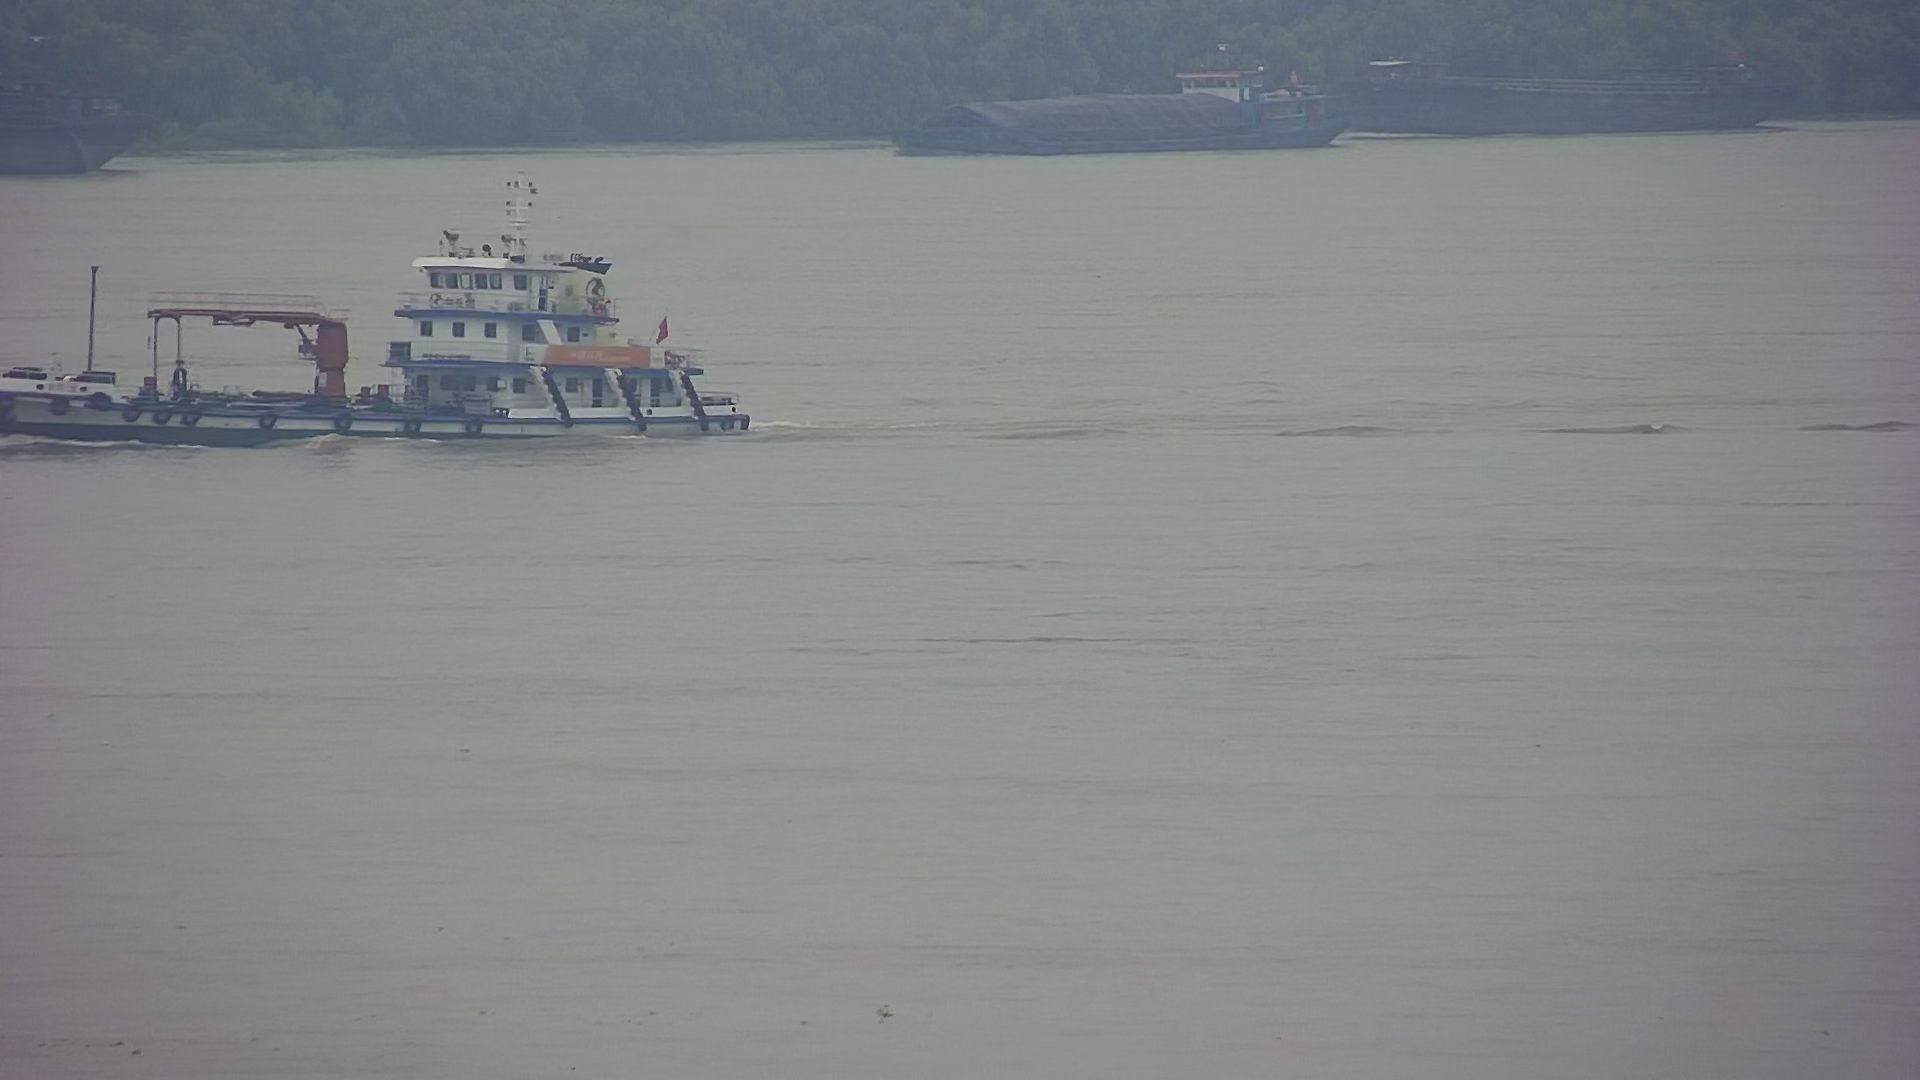ship: (1, 169, 781, 452), (872, 21, 1370, 162), (1367, 15, 1822, 146), (1, 22, 179, 186)
